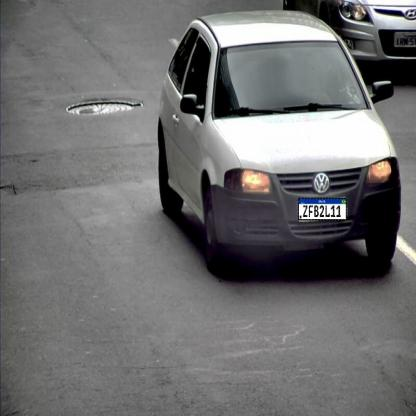PlacaM: (298, 198, 347, 220)
